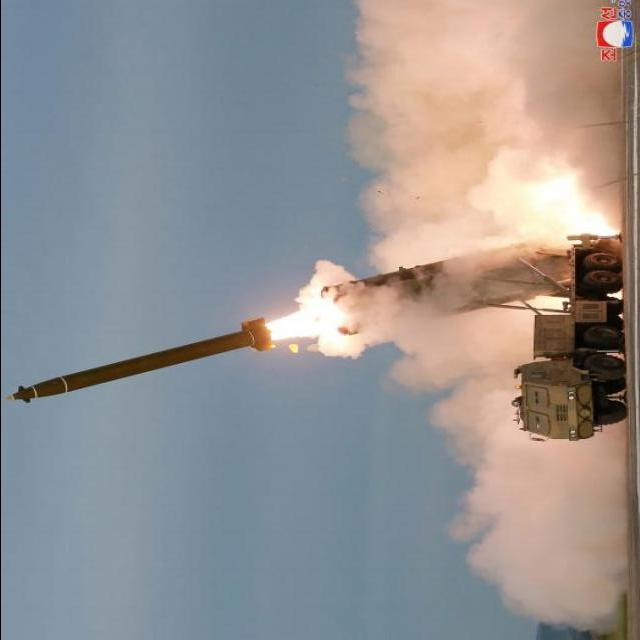missile: (7, 305, 281, 412)
